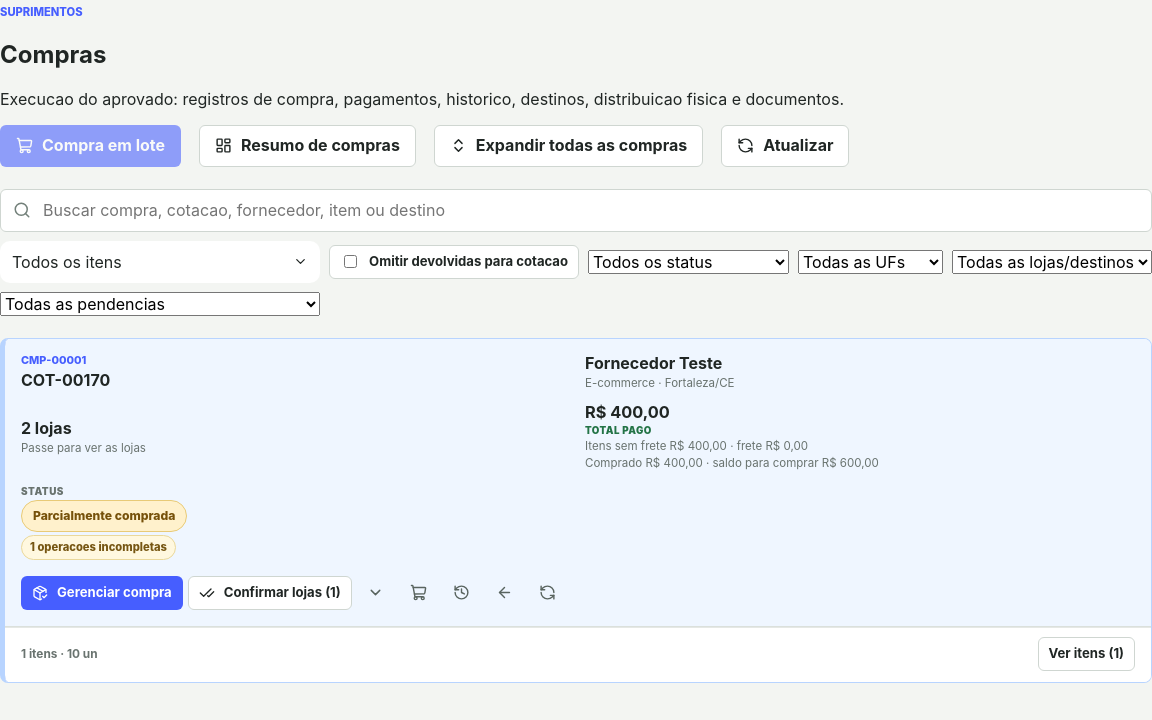
Test: SupplyPurchasesPage V2 › mantem variacao como Em andamento na compra parcial
Expected: the text "CMP-00001" is shown, [21, 353, 86, 367]
Click the button named "Resumo CMP-00001" at (419, 592), box [400, 574, 438, 612]
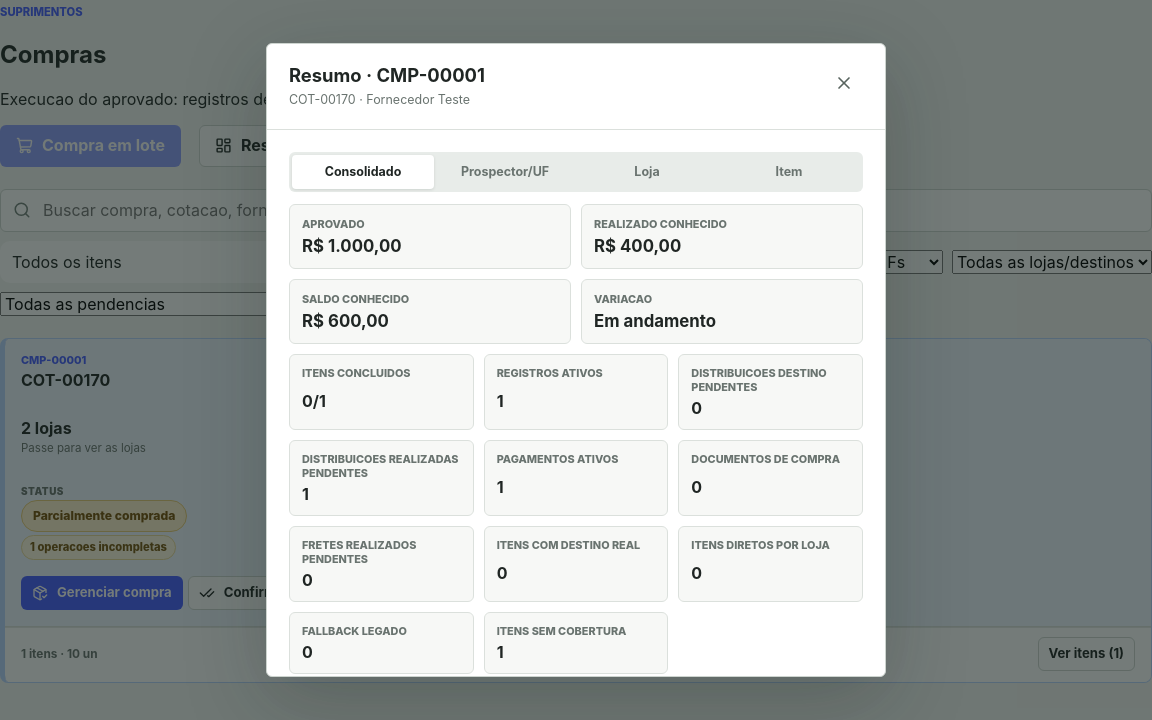
Expected: the text "Em andamento" is shown, [594, 311, 716, 331]
